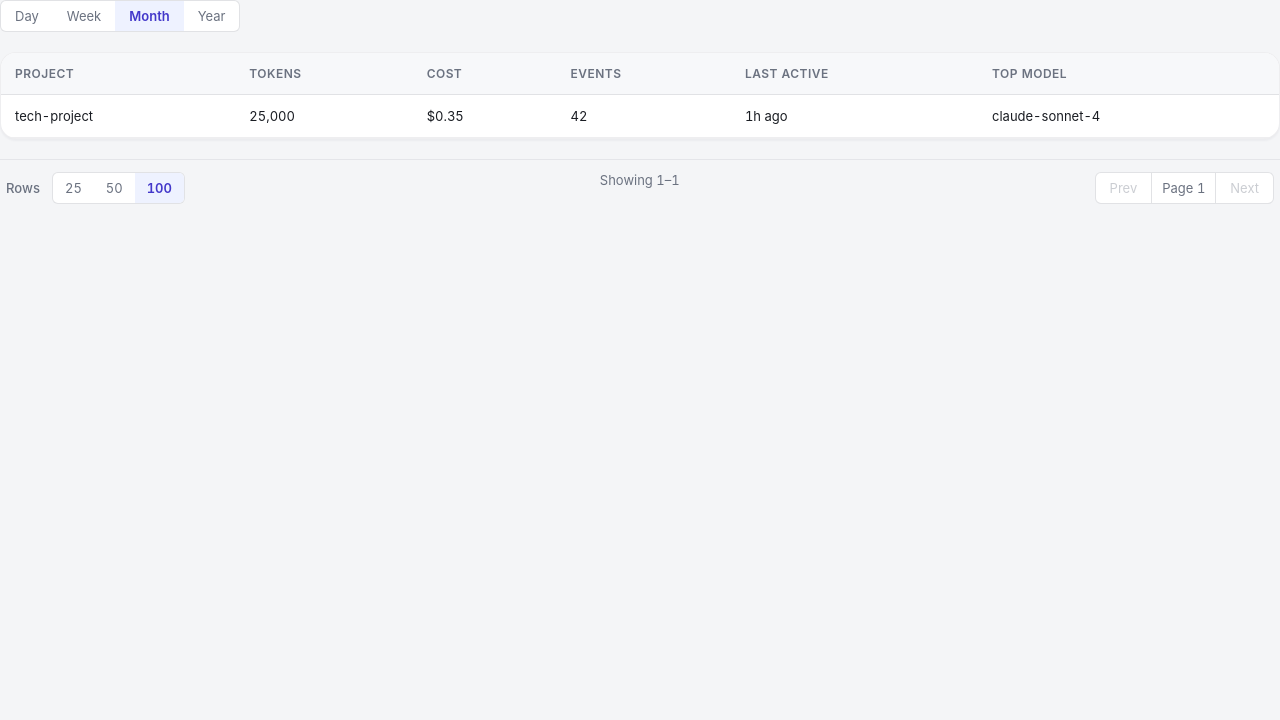
Test: ProjectsPage › shows detail drawer with technical details
Click the text "tech-project" at (118, 116), box [1,94,235,138]
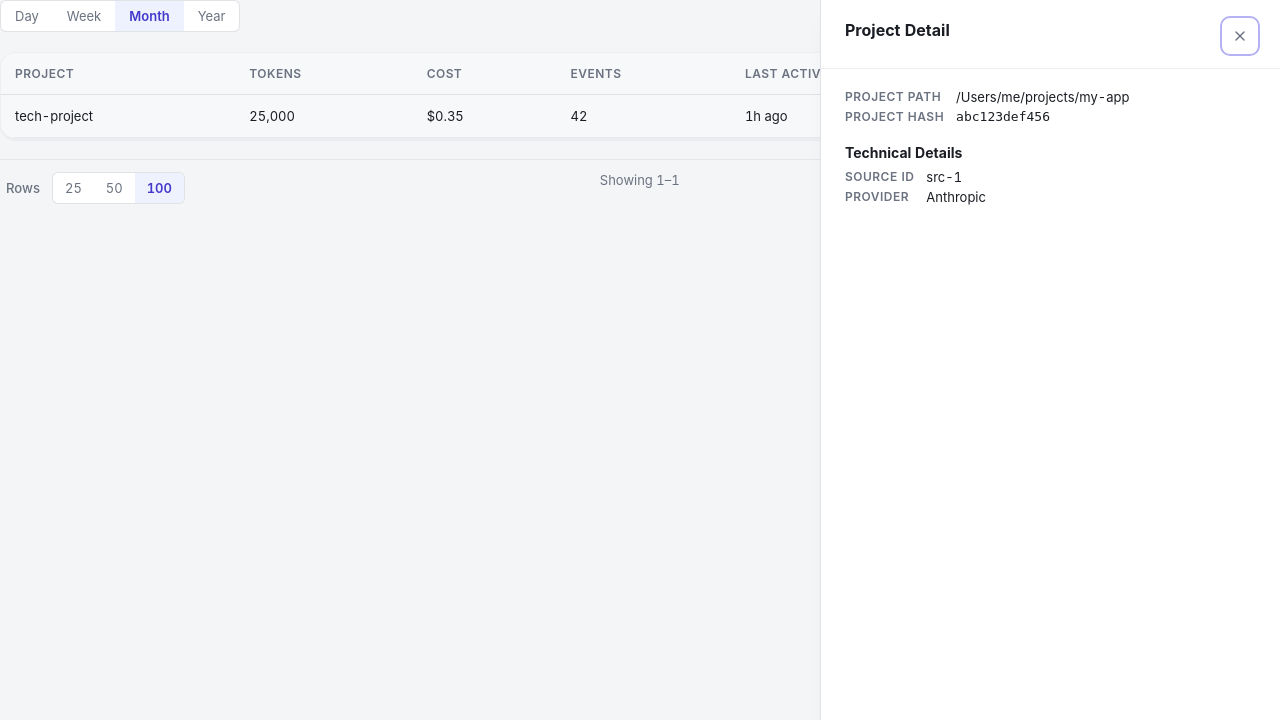
Now the heading "Technical Details" is shown, box [845,144,962,161]
Now the text "Anthropic" is shown, box [926,189,986,205]
Now the text "src-1" is shown, box [926,169,962,185]
